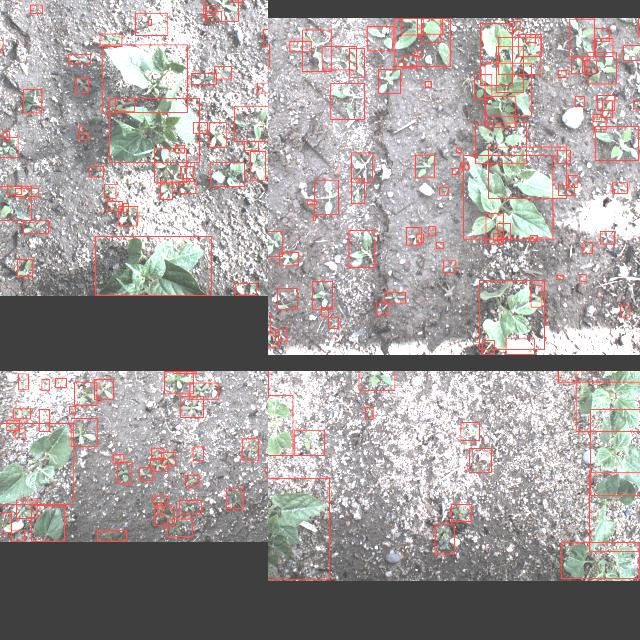crop: (463, 155, 553, 239), (95, 237, 211, 296), (268, 478, 330, 580), (0, 422, 74, 503), (102, 44, 188, 112), (109, 98, 199, 162), (480, 280, 544, 348), (591, 409, 640, 495), (488, 146, 566, 198), (589, 472, 640, 551), (575, 371, 640, 430), (561, 542, 639, 578), (485, 62, 531, 116), (480, 22, 512, 84), (268, 395, 292, 455), (32, 505, 64, 541), (210, 162, 244, 186), (506, 338, 534, 354)
weed: (394, 17, 450, 65), (476, 122, 526, 164), (498, 36, 540, 74), (596, 126, 638, 160), (496, 46, 524, 92), (302, 29, 332, 71), (331, 83, 365, 119), (234, 105, 268, 140), (154, 148, 186, 182), (0, 185, 30, 220), (349, 230, 375, 266), (485, 95, 515, 126), (570, 18, 594, 56), (588, 51, 616, 83), (322, 45, 356, 69), (314, 180, 338, 214), (71, 418, 97, 446), (294, 430, 324, 454), (136, 12, 168, 34), (359, 371, 395, 390), (367, 24, 393, 50), (205, 0, 238, 20), (164, 371, 193, 393), (352, 152, 372, 182), (435, 524, 455, 554), (486, 212, 504, 244), (312, 281, 332, 309), (378, 68, 400, 92), (518, 33, 542, 55), (75, 381, 97, 405), (470, 448, 492, 472), (190, 382, 218, 400), (250, 150, 266, 180), (22, 88, 42, 112), (415, 154, 435, 178), (421, 17, 441, 41), (180, 396, 203, 416), (277, 288, 297, 310), (474, 74, 492, 98), (168, 519, 192, 537), (16, 499, 38, 518), (154, 506, 174, 526), (350, 48, 364, 76), (210, 122, 226, 146), (418, 17, 442, 33), (119, 206, 138, 226), (95, 379, 114, 399), (351, 177, 365, 203), (0, 137, 18, 157), (226, 488, 244, 508), (460, 422, 480, 440), (268, 230, 282, 255), (98, 530, 126, 542), (178, 500, 202, 514), (242, 438, 258, 459), (595, 37, 613, 55), (402, 18, 422, 34), (451, 504, 471, 520), (24, 220, 48, 233), (100, 32, 122, 46), (117, 462, 131, 484), (192, 72, 216, 84), (406, 227, 422, 245), (597, 94, 615, 110), (235, 283, 257, 295), (623, 44, 640, 59), (280, 251, 298, 265), (39, 409, 50, 431), (160, 180, 172, 200), (530, 286, 542, 306), (18, 260, 32, 276), (68, 53, 90, 63), (384, 292, 406, 302), (0, 512, 11, 532), (214, 66, 232, 78), (116, 98, 134, 110), (150, 459, 168, 471), (290, 40, 310, 50), (592, 116, 606, 130), (180, 181, 196, 193), (594, 28, 610, 40), (559, 184, 575, 196), (498, 223, 510, 239), (160, 452, 176, 464), (75, 78, 88, 92), (600, 230, 614, 243), (13, 408, 31, 418), (16, 188, 38, 196), (192, 121, 208, 132), (104, 184, 116, 198), (403, 54, 417, 66), (376, 302, 388, 316), (482, 340, 494, 354), (185, 475, 199, 487), (11, 530, 25, 542), (205, 11, 221, 21), (612, 182, 628, 192), (572, 56, 582, 72), (603, 100, 613, 116), (18, 373, 28, 389), (180, 166, 193, 178), (584, 59, 596, 72), (140, 466, 152, 479), (90, 166, 104, 177), (275, 329, 287, 341), (444, 260, 456, 272), (558, 150, 570, 162), (268, 333, 279, 346), (108, 201, 122, 211), (244, 140, 258, 150), (193, 446, 203, 460), (6, 420, 20, 430), (6, 186, 22, 194), (203, 4, 215, 14), (620, 305, 630, 317), (568, 175, 578, 187), (582, 242, 592, 254), (152, 448, 164, 458), (257, 82, 268, 92), (328, 317, 338, 328), (112, 453, 124, 462), (510, 20, 520, 30), (56, 377, 66, 387), (15, 428, 25, 438), (30, 4, 42, 12), (152, 496, 168, 502), (365, 407, 373, 419), (78, 131, 88, 139), (428, 225, 436, 235), (576, 96, 584, 106), (525, 34, 535, 42), (492, 232, 502, 240), (439, 186, 448, 194), (42, 378, 48, 390), (264, 28, 268, 45), (416, 234, 424, 242), (633, 99, 640, 108), (3, 131, 9, 141), (175, 146, 185, 152), (322, 306, 328, 316), (268, 312, 271, 331), (414, 50, 422, 56), (436, 242, 444, 248), (558, 70, 566, 76), (593, 114, 601, 120), (580, 274, 586, 282), (556, 274, 564, 280), (530, 235, 538, 241), (70, 406, 76, 414), (124, 202, 128, 212), (158, 505, 162, 515), (425, 80, 431, 86), (452, 168, 458, 174), (456, 146, 462, 152), (462, 162, 468, 168), (308, 200, 316, 204), (79, 126, 83, 132), (148, 18, 152, 24), (313, 216, 315, 220)
